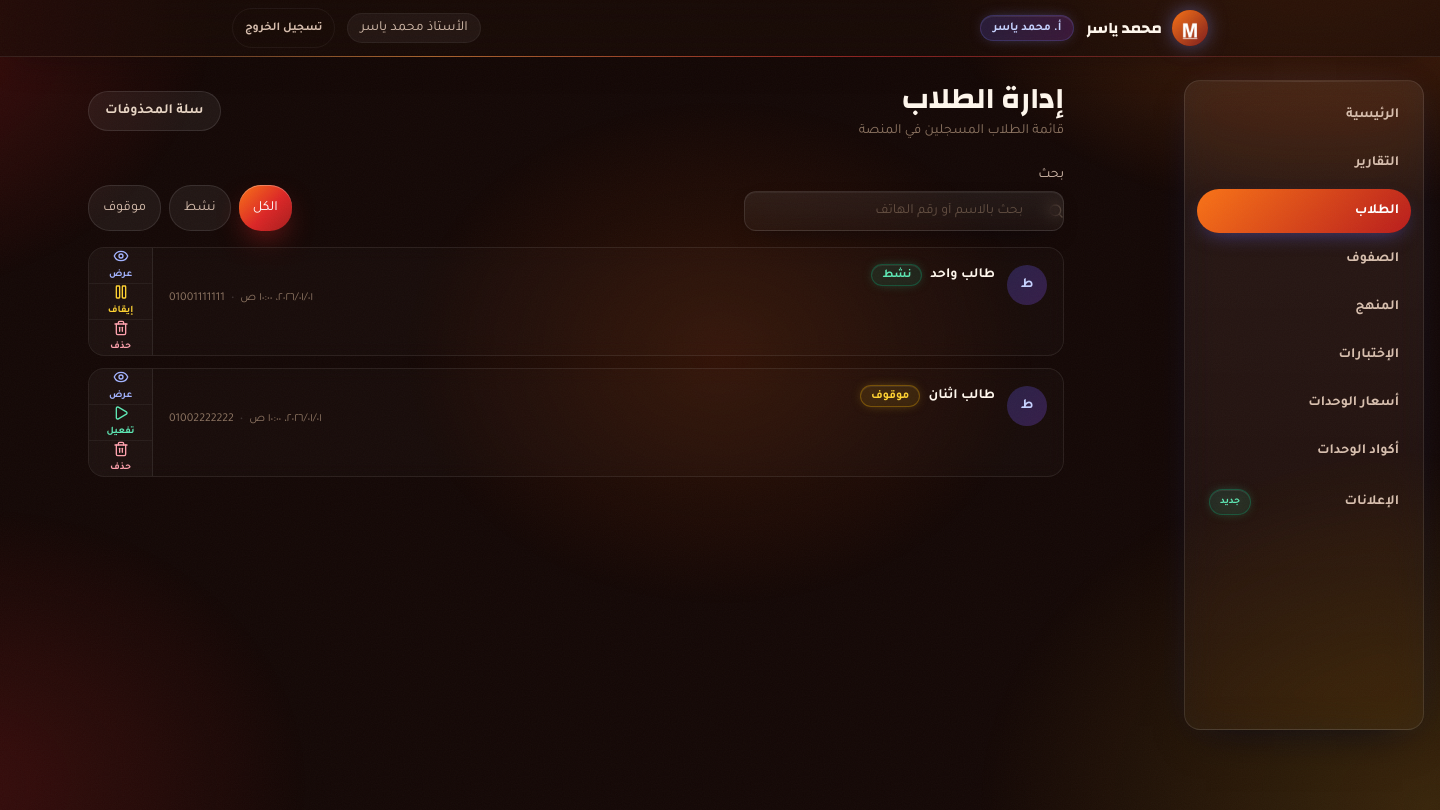
Test: StudentListPage (staff lifecycle) › enables a disabled student after confirmation
Click the button "تفعيل".
click(120, 423)  # box [89, 405, 152, 441]
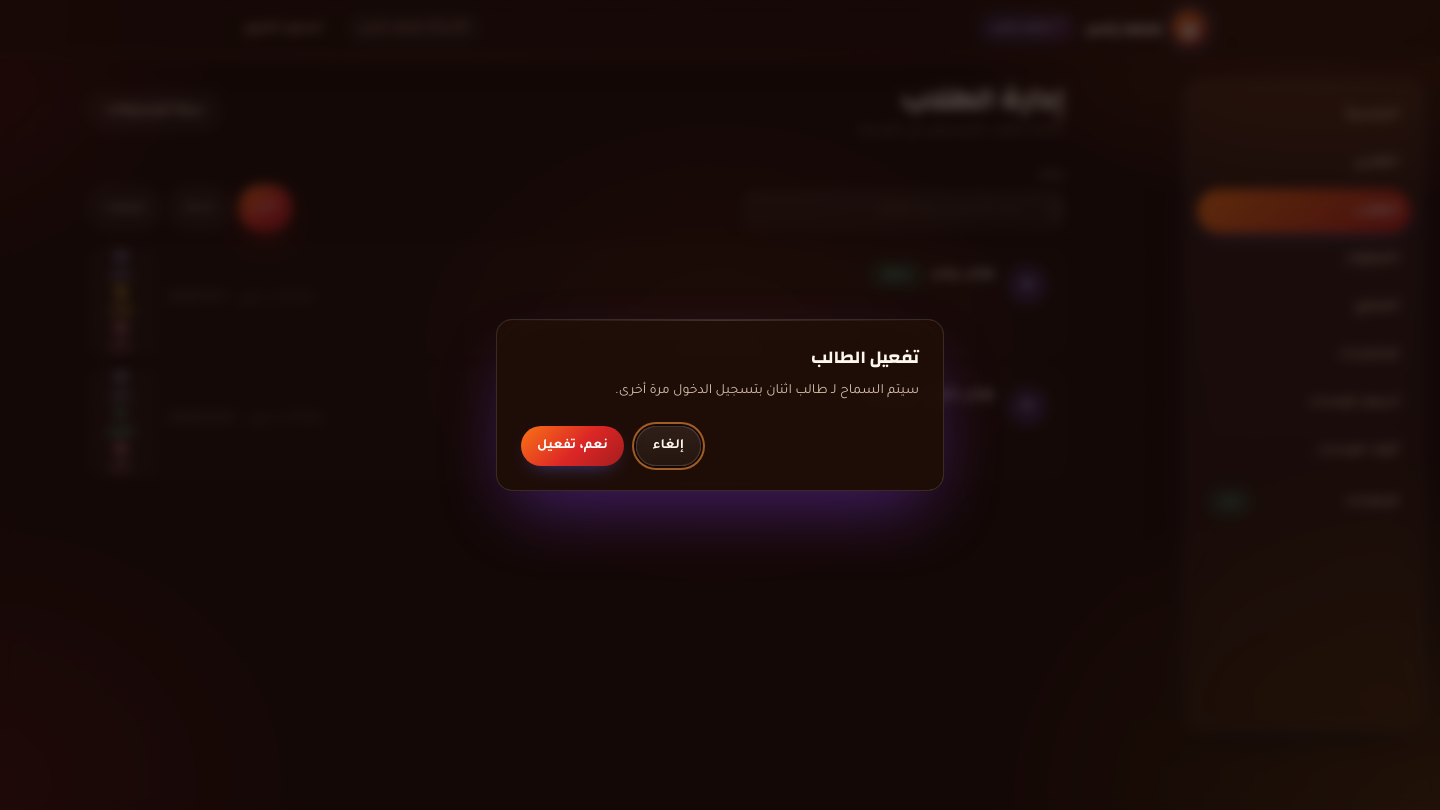
Click the button "نعم، تفعيل".
click(572, 446)  # box [521, 426, 624, 466]
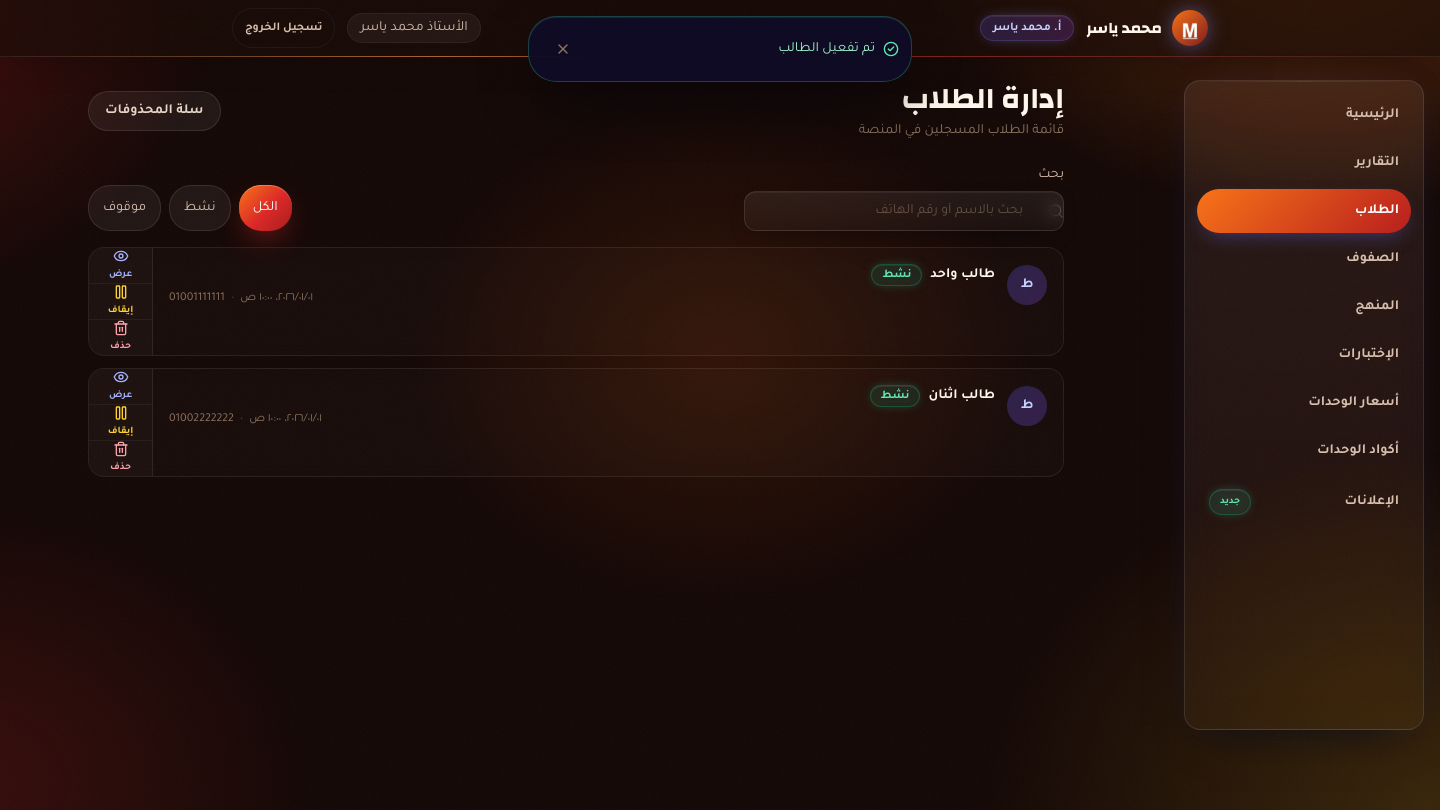
Result: the text "نشط" next to "طالب اثنان" is shown at [880, 390, 909, 402]
